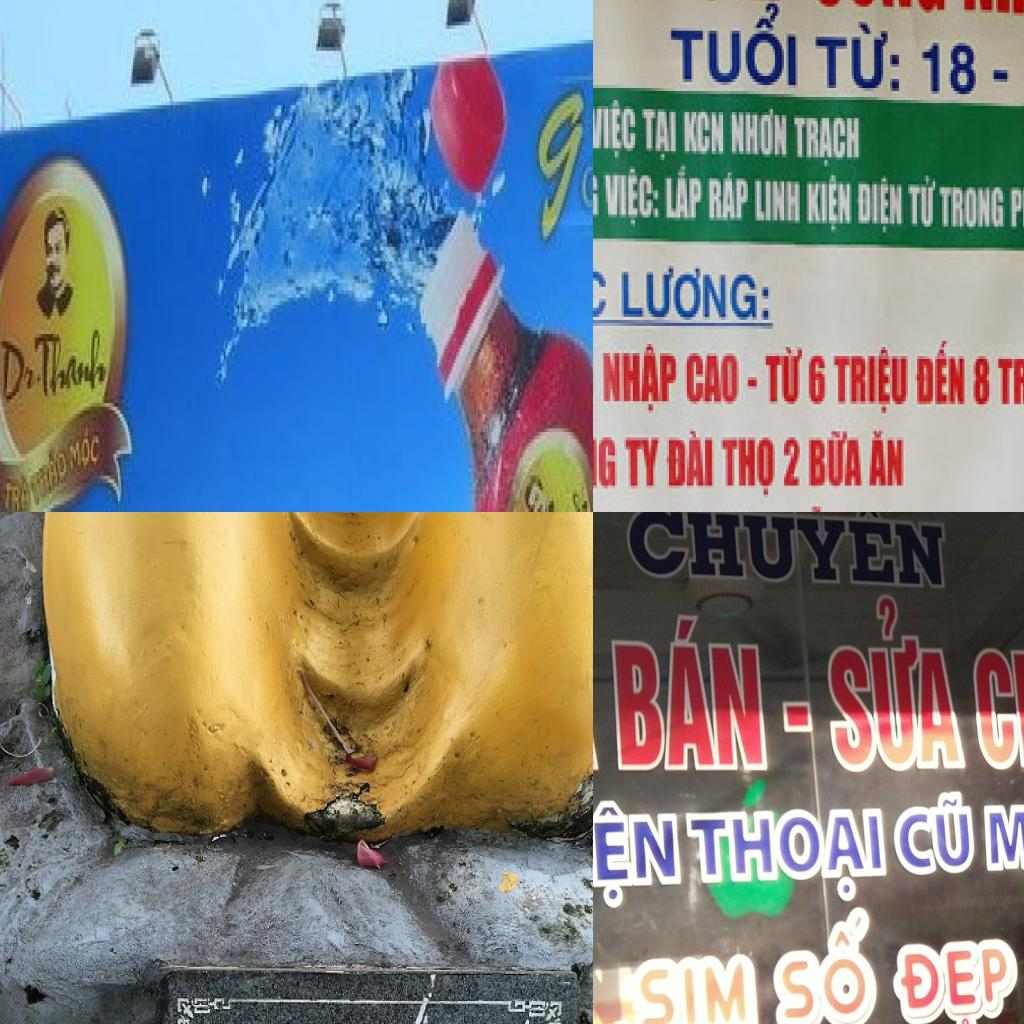text: (816, 596, 969, 781), (612, 604, 774, 774), (628, 512, 959, 591), (680, 800, 895, 910), (889, 913, 1024, 1024), (772, 903, 884, 1024), (611, 940, 762, 1024), (664, 1, 802, 85), (593, 793, 686, 916), (617, 260, 775, 326), (528, 87, 587, 251), (886, 790, 980, 886), (0, 323, 111, 403), (968, 621, 1024, 779), (809, 10, 901, 94), (594, 344, 678, 416), (827, 341, 910, 413), (716, 422, 780, 507), (913, 332, 971, 419), (935, 178, 1010, 242), (804, 422, 865, 495), (791, 112, 865, 172), (680, 344, 746, 410), (917, 34, 980, 103), (981, 783, 1024, 881), (599, 166, 662, 230), (802, 169, 856, 242), (854, 172, 908, 242), (863, 419, 910, 495), (759, 338, 807, 410), (700, 166, 752, 230), (664, 428, 716, 492), (730, 106, 793, 157), (27, 436, 71, 508), (638, 100, 682, 169), (520, 471, 593, 512), (658, 163, 702, 230), (682, 106, 730, 166), (755, 172, 804, 230), (620, 428, 664, 492), (593, 94, 637, 157), (66, 417, 103, 483), (908, 166, 942, 236), (998, 340, 1024, 422), (593, 425, 621, 491), (780, 690, 819, 733), (777, 432, 804, 492), (971, 347, 996, 410), (809, 341, 829, 413), (2, 468, 34, 512), (1004, 175, 1024, 238)
